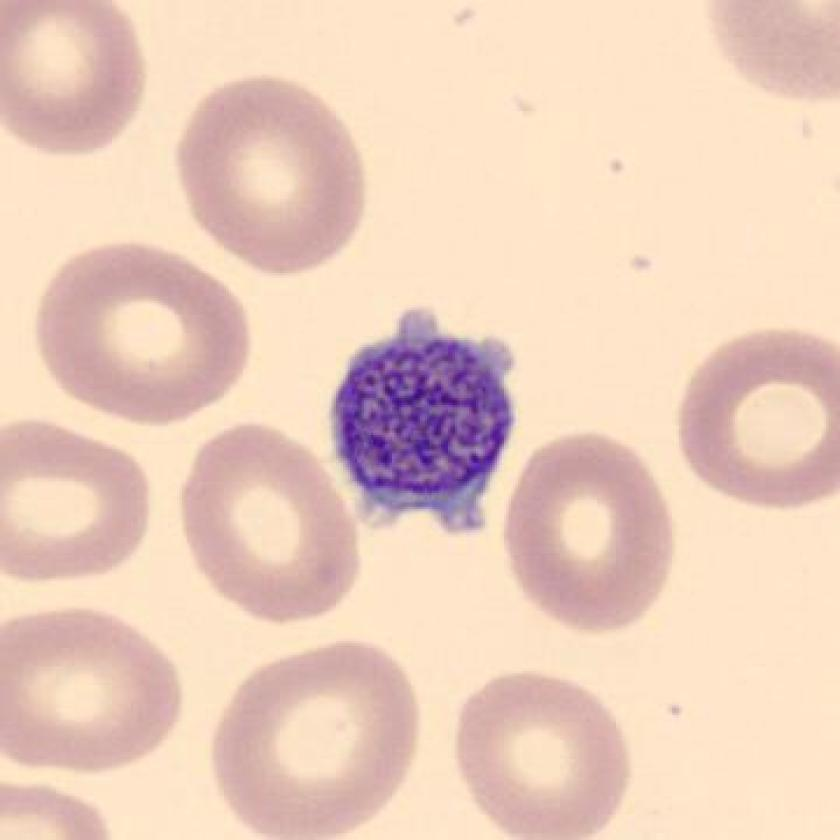platelets: (323, 302, 519, 542)
